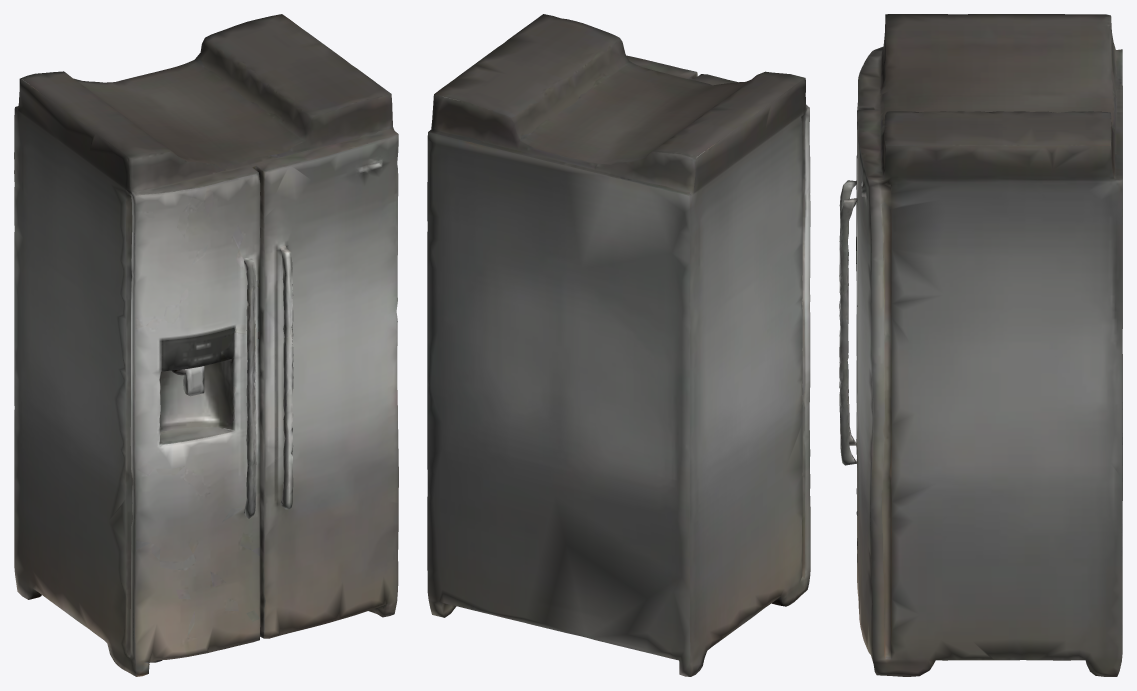
File: 05_fridge.glb
The picture shows the model from 3 angles, left to right: view 1: azimuth 30°, elevation 25°; view 2: azimuth 150°, elevation 25°; view 3: azimuth 270°, elevation 25°; orthographic projection. The views are drawn at different scales.
Visible parts, largest first — view 1: geometry_0; view 2: geometry_0; view 3: geometry_0.
Part boxes in pixels (x1=…): geometry_0: x1=14, y1=14, x2=398, y2=676; geometry_0: x1=427, y1=14, x2=810, y2=676; geometry_0: x1=839, y1=14, x2=1122, y2=676.
Size of the model in its own units: 1.01 by 1.9 by 0.9192.
Materials: 1 (1 with a texture image).
